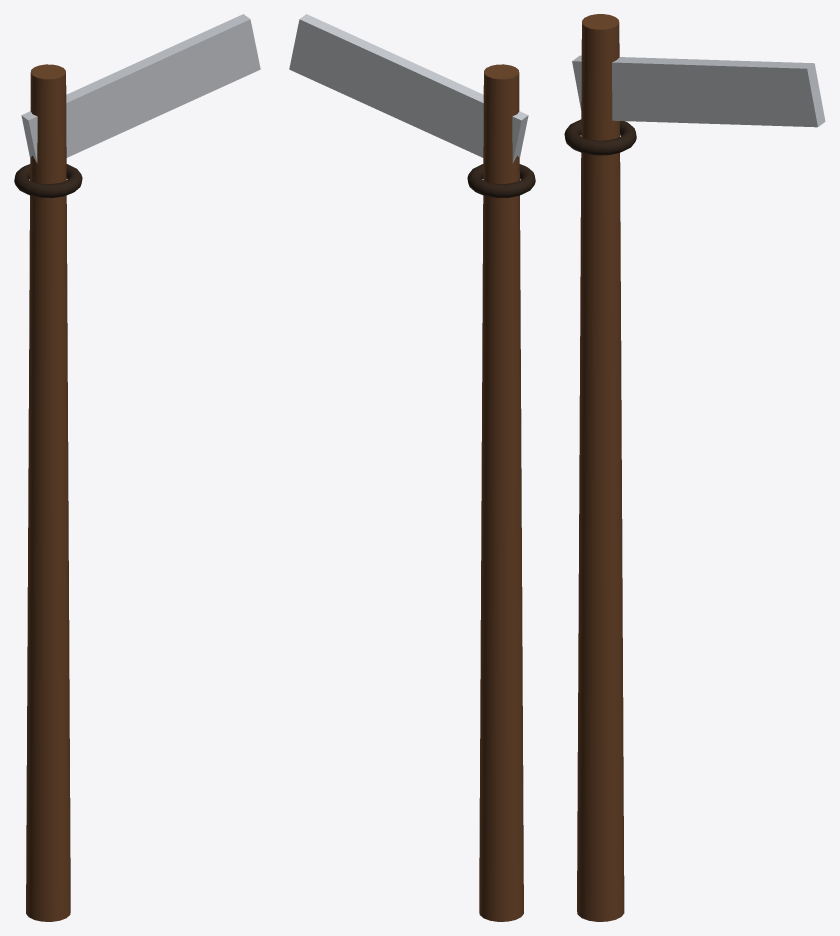
File: iron_hoe.glb
3 renders of one model, left to right at view 1: azimuth 30°, elevation 25°; view 2: azimuth 150°, elevation 25°; view 3: azimuth 330°, elevation 25°, orthographic. The views are drawn at different scales.
Visible parts, largest first — view 1: handle, blade, binding; view 2: handle, blade, binding; view 3: handle, blade, binding.
Part boxes in pixels (x1,y1,x2,y2): handle: (26, 64, 70, 921); blade: (21, 14, 260, 163); binding: (14, 164, 82, 198); handle: (479, 64, 523, 921); blade: (289, 14, 528, 163); binding: (467, 164, 535, 198); handle: (577, 14, 624, 921); blade: (572, 55, 825, 127); binding: (564, 119, 636, 155).
Bounding box in the file's own units: 0.2318 × 0.7864 × 0.058.
